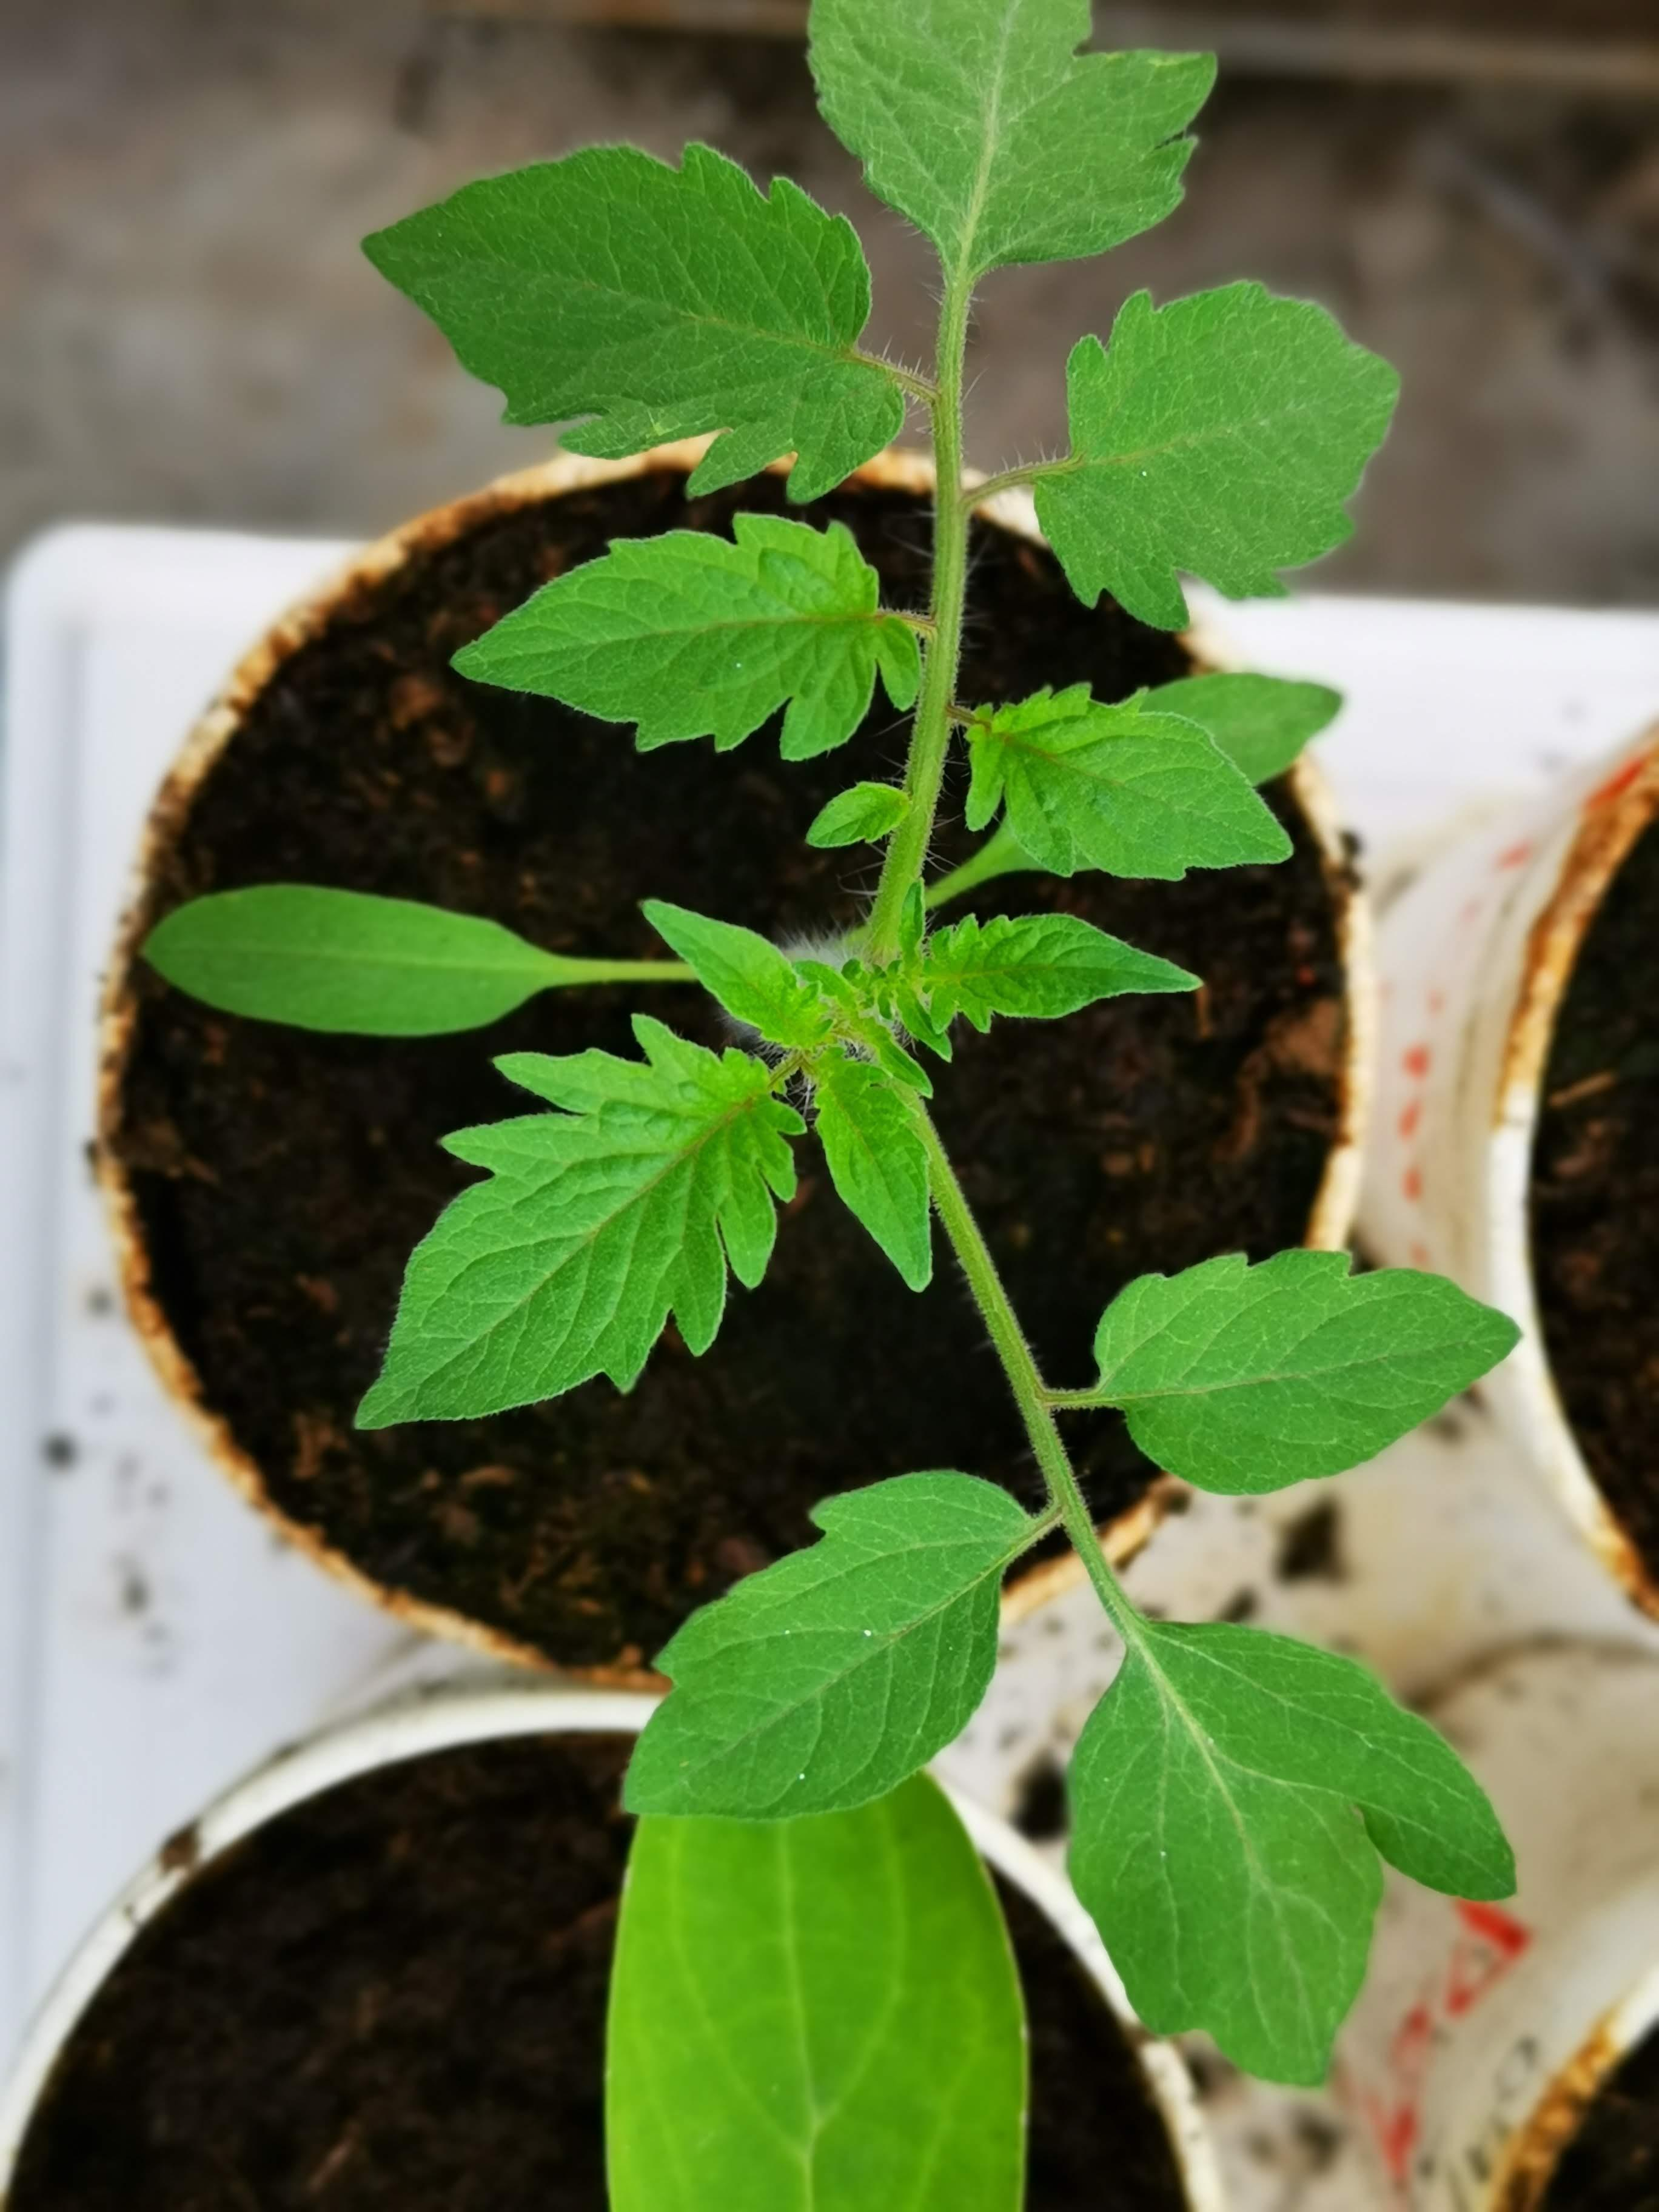Rugose leaf: (840, 878, 1206, 1064), (807, 1047, 934, 1296), (648, 902, 829, 1050), (805, 779, 913, 845)
